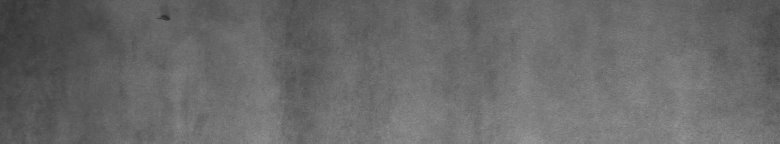fi: (157, 14, 170, 24)
